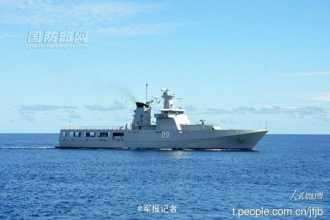warship: (54, 84, 272, 150)
